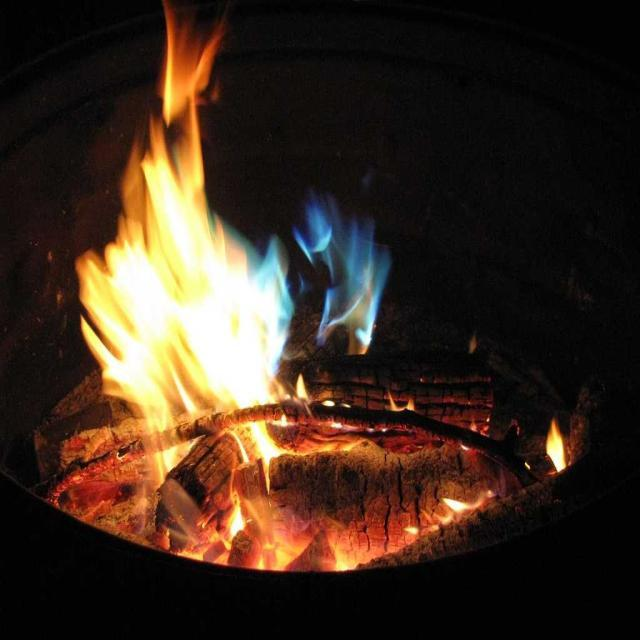Fire: (81, 262, 278, 404), (164, 0, 213, 242), (322, 222, 380, 344)
